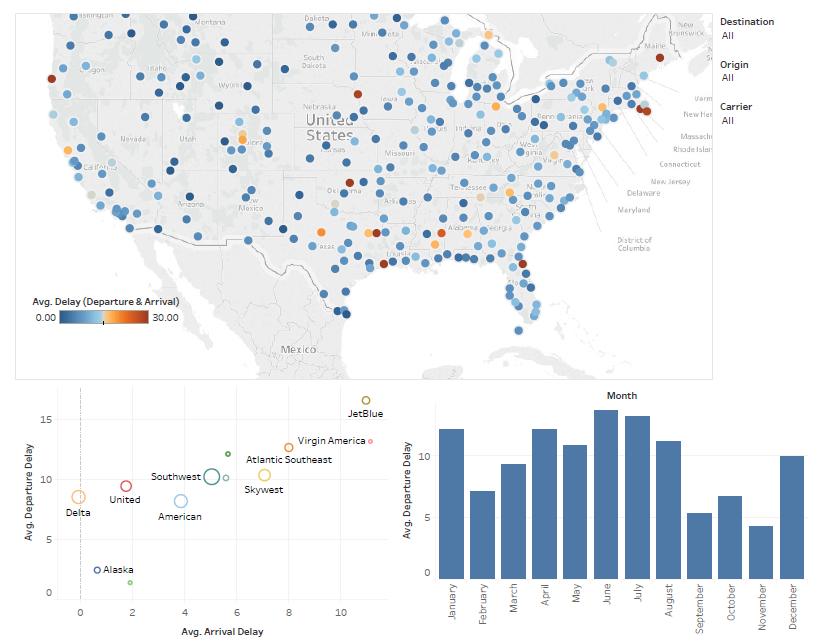

The dashboard page shown, as its layout file describes it:
{"tool":"tableau","page":{"name":"Delay Map","canvas":[1000,800],"ordinal":2},"visuals":[{"type":"worksheet","title":"Map Departure Delay","mark":"Automatic","box":[8,8,868,459]},{"type":"filter","title":"Delay by Carrier","param":"[federated.0as00j71ngsp9e13z5v8913zjk8z].[none:DEST:nk]","box":[876,8,116,52]},{"type":"filter","title":"Delay by Carrier","param":"[federated.0as00j71ngsp9e13z5v8913zjk8z].[none:ORIGIN:nk]","box":[876,60,116,52]},{"type":"filter","title":"Delay by Carrier","param":"[federated.0as00j71ngsp9e13z5v8913zjk8z].[none:UNIQUE_CARRIER:nk]","box":[876,112,116,52]},{"type":"legend","title":"Map Departure Delay","param":"[federated.0as00j71ngsp9e13z5v8913zjk8z].[avg:Calculation_1176565421949845505:qk","box":[33,354,185,76]},{"type":"worksheet","title":"Delay by Carrier","mark":"Automatic","rows":["DEP_DELAY"],"cols":["ARR_DELAY"],"box":[8,467,466,325]},{"type":"worksheet","title":"Delay by Month","mark":"Automatic","rows":["DEP_DELAY"],"cols":["MONTH"],"box":[474,467,518,325]}]}

Visuals, with their boxes in screenshot pixels (x1, y1, x2, y2), scaled from the page's 1000x800 canvas onto the 827x644 screenshot:
"Map Departure Delay" worksheet: (7,6,724,376)
"Delay by Carrier" filter: (724,6,820,48)
"Delay by Carrier" filter: (724,48,820,90)
"Delay by Carrier" filter: (724,90,820,132)
"Map Departure Delay" legend: (27,285,180,346)
"Delay by Carrier" worksheet: (7,376,392,638)
"Delay by Month" worksheet: (392,376,820,638)
